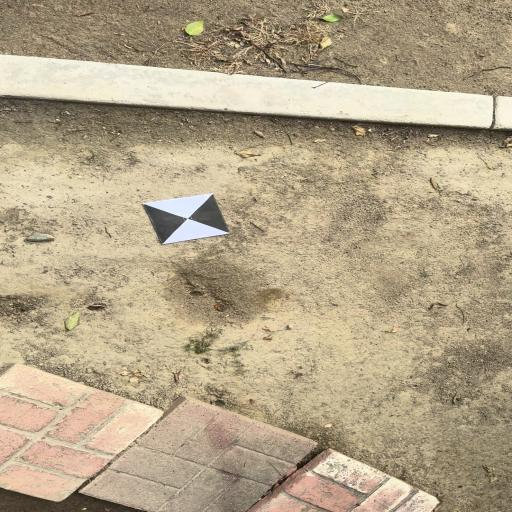target: (146, 193, 231, 243)
